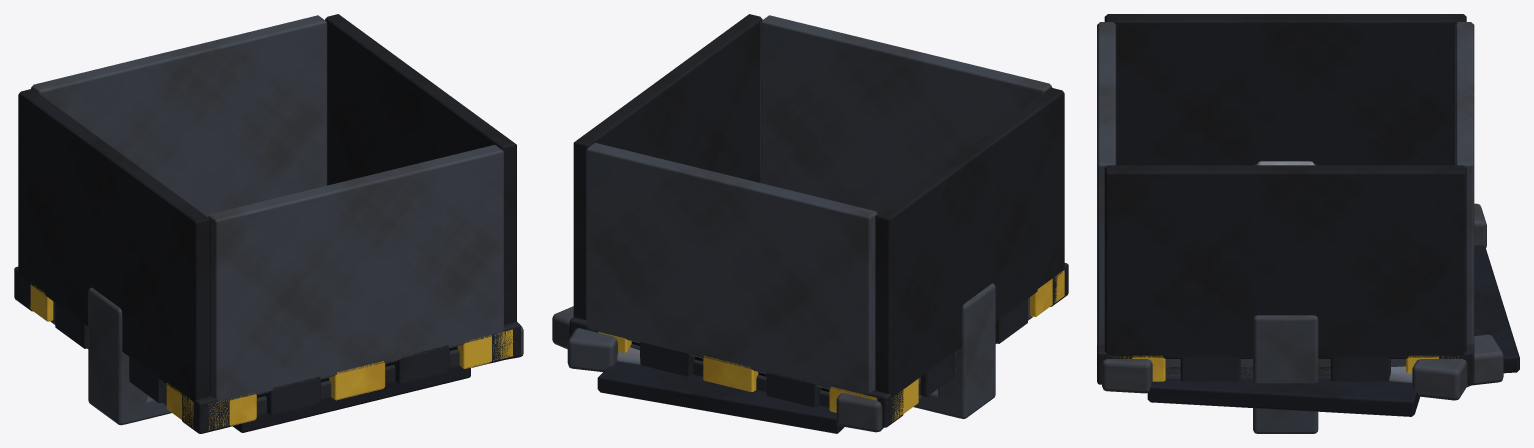
File: tiles.glb
3 renders of one model, left to right at view 1: azimuth 30°, elevation 25°; view 2: azimuth 150°, elevation 25°; view 3: azimuth 270°, elevation 25°, orthographic. The views are drawn at different scales.
Visible parts, largest first — view 1: shaft_wall_y, shaft_wall_y.001, shaft_wall_x, shaft_wall_x.001, wall_post, belt_bed, curb_y.002, curb_y.003, curb_y.001, curb_corner, curb_y.004, curb_y (+8 smaller); view 2: shaft_wall_y.001, shaft_wall_y, shaft_wall_x, shaft_wall_x.001, curve_bed, wall_post, curve_rail, curve_rail.003, curb_y.007, curb_y.006, curb_y.008, curb_x.003 (+7 smaller); view 3: shaft_wall_x.001, shaft_wall_x, curve_bed.005, wall_post.001, shaft_wall_y.001, shaft_wall_y, curve_bed, curve_rail.002, curve_rail.008, curb_x.006, curb_x.008, curve_rail (+4 smaller).
Boxes of the visible parts, x1,y1,x2,y2 form: shaft_wall_y: [208, 144, 504, 402]; shaft_wall_y.001: [31, 15, 327, 216]; shaft_wall_x: [18, 89, 210, 401]; shaft_wall_x.001: [325, 14, 516, 324]; wall_post: [88, 287, 146, 425]; belt_bed: [233, 365, 470, 432]; curb_y.002: [329, 361, 385, 400]; curb_y.003: [393, 345, 449, 384]; curb_y.001: [265, 376, 320, 415]; curb_corner: [182, 394, 230, 433]; curb_y.004: [457, 329, 512, 368]; curb_y: [208, 393, 256, 430]; shaft_wall_y.001: [586, 142, 877, 396]; shaft_wall_y: [760, 15, 1052, 213]; shaft_wall_x: [875, 87, 1064, 397]; shaft_wall_x.001: [573, 14, 762, 319]; curve_bed: [597, 361, 844, 433]; wall_post: [938, 283, 995, 418]; curve_rail: [567, 328, 617, 371]; curve_rail.003: [836, 393, 883, 432]; curb_y.007: [703, 355, 758, 391]; curb_y.006: [766, 371, 821, 407]; curb_y.008: [640, 342, 694, 376]; curb_x.003: [920, 352, 954, 397]; shaft_wall_x.001: [1104, 165, 1466, 359]; shaft_wall_x: [1104, 14, 1466, 165]; curve_bed.005: [1147, 378, 1419, 416]; wall_post.001: [1253, 315, 1318, 433]; shaft_wall_y.001: [1455, 22, 1474, 345]; shaft_wall_y: [1097, 22, 1116, 345]; curve_bed: [1474, 245, 1519, 373]; curve_rail.002: [1412, 359, 1467, 400]; curve_rail.008: [1102, 359, 1152, 393]; curb_x.006: [1180, 355, 1240, 381]; curb_x.008: [1330, 355, 1390, 381]; curve_rail: [1471, 334, 1503, 385].
Size of the model in its own units: 1.11 by 0.849 by 1.1.
4 materials, 2 textured.
